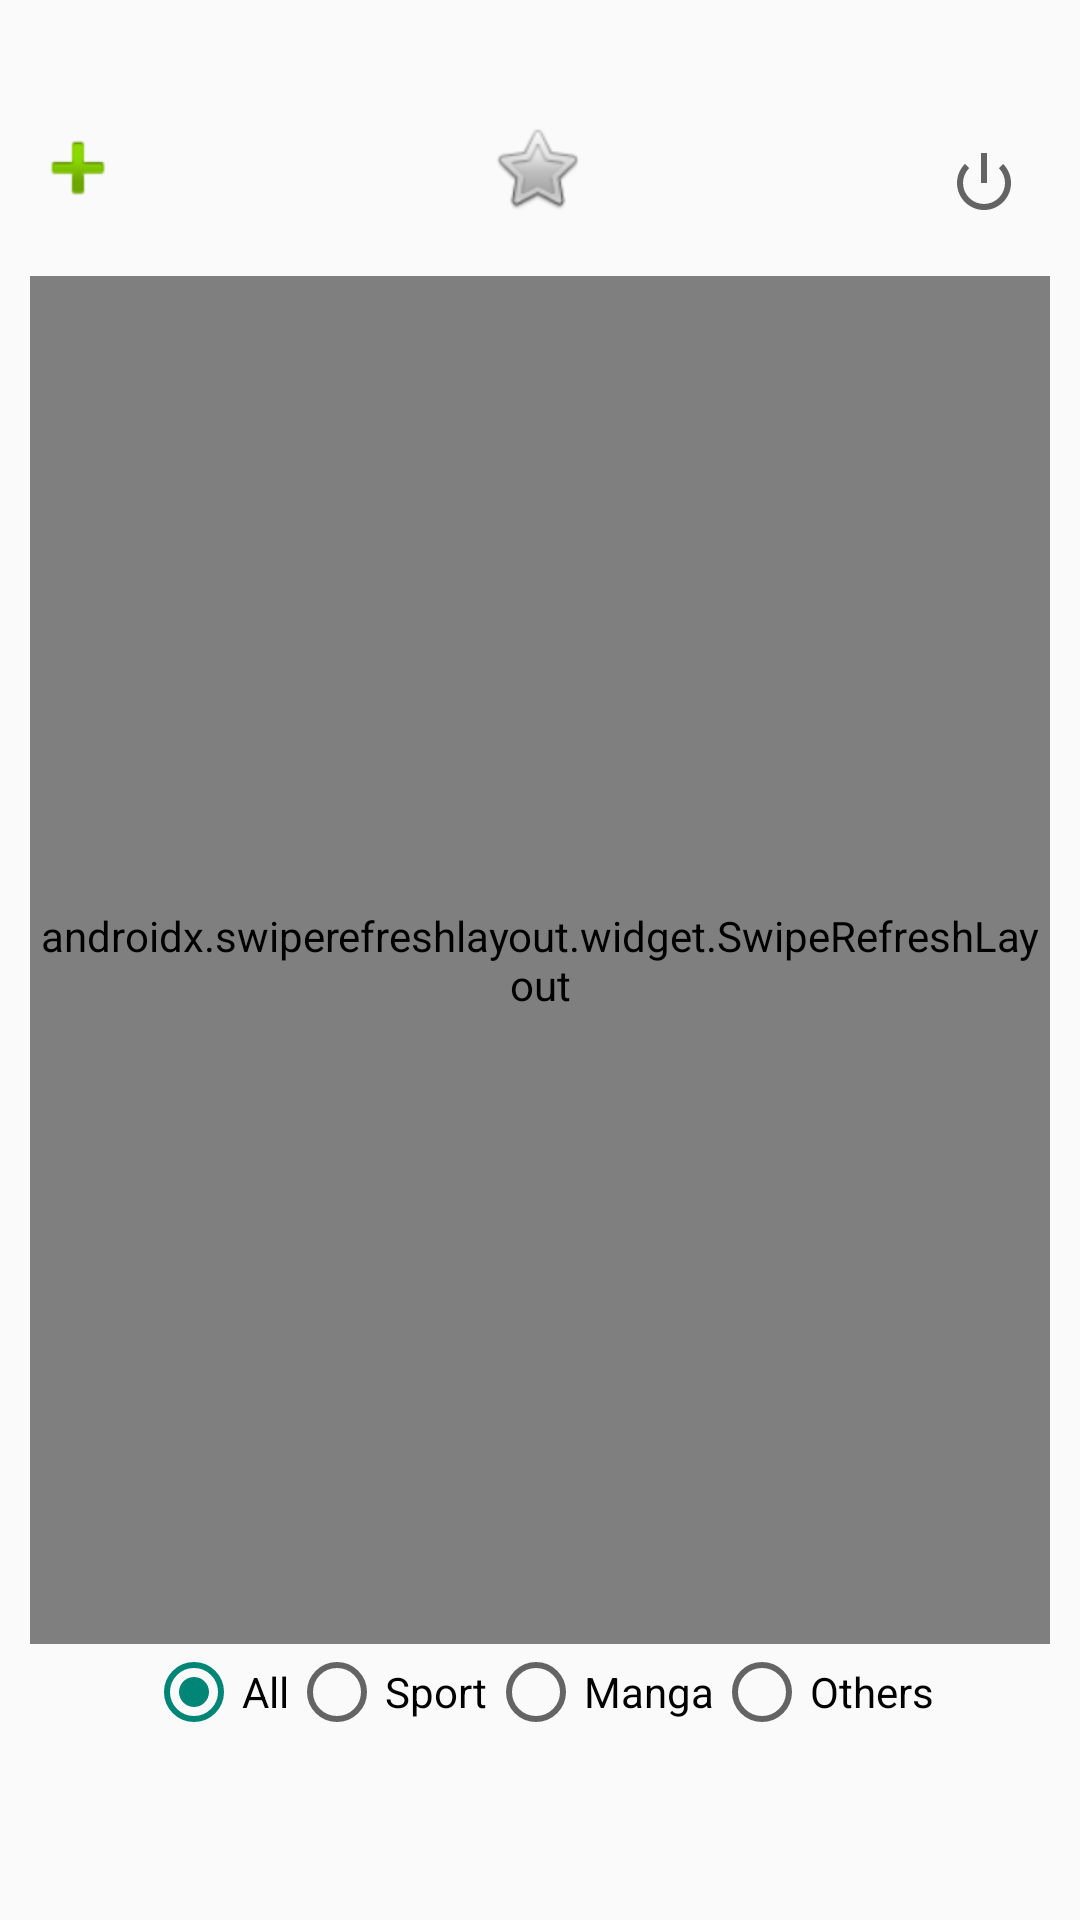

Icon bounding boxes for this 1080px×1920px phone screenshot, format (left=x1, top=y1, right=x2, bottom=y2):
add: (left=51, top=141, right=105, bottom=195)
lock power off: (left=957, top=153, right=1011, bottom=210)
star: (left=498, top=130, right=578, bottom=208)
